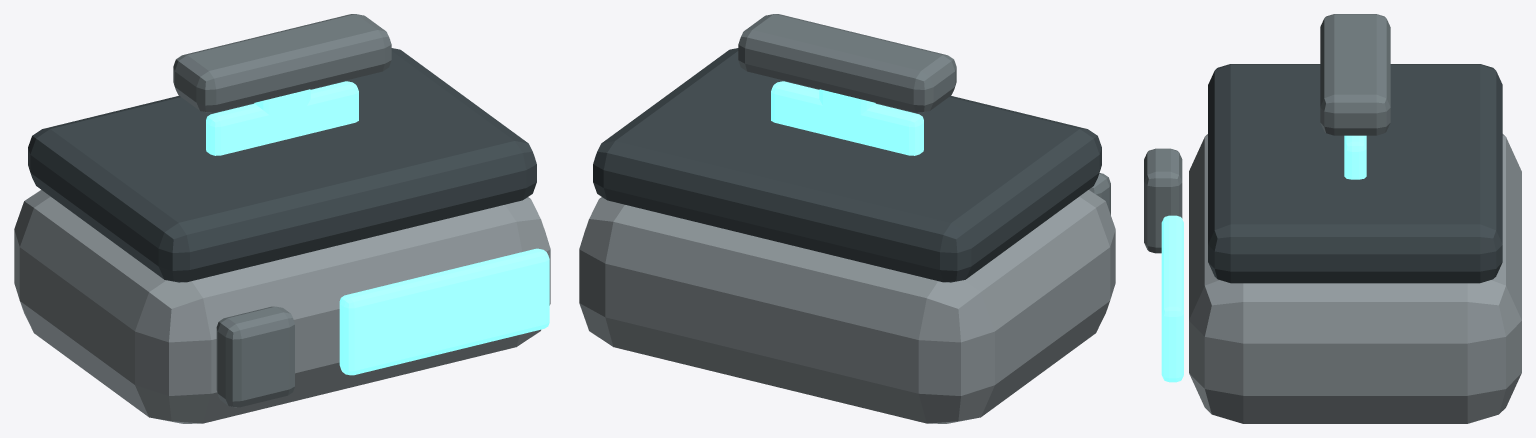
File: FieldMedkit_A.fbx
3 renders of one model, left to right at view 1: azimuth 30°, elevation 25°; view 2: azimuth 150°, elevation 25°; view 3: azimuth 270°, elevation 25°, orthographic. The views are drawn at different scales.
Parts seen in each view (by area): view 1: Medkit Lid, Medkit Shell, Medkit Screen, Medkit Handle, Medkit Latch, Medkit Cross Horizontal, Medkit Cross Vertical; view 2: Medkit Shell, Medkit Lid, Medkit Handle, Medkit Cross Horizontal, Medkit Cross Vertical; view 3: Medkit Lid, Medkit Shell, Medkit Handle, Medkit Screen, Medkit Latch, Medkit Cross Horizontal.
Part boxes in pixels (bbox=[...]): Medkit Lid: bbox=[28, 48, 536, 282]; Medkit Shell: bbox=[14, 190, 550, 423]; Medkit Screen: bbox=[339, 248, 549, 375]; Medkit Handle: bbox=[173, 14, 391, 112]; Medkit Latch: bbox=[216, 306, 294, 407]; Medkit Cross Horizontal: bbox=[206, 81, 358, 155]; Medkit Cross Vertical: bbox=[254, 89, 310, 143]; Medkit Shell: bbox=[579, 190, 1115, 423]; Medkit Lid: bbox=[593, 48, 1101, 282]; Medkit Handle: bbox=[738, 14, 956, 112]; Medkit Cross Horizontal: bbox=[771, 81, 923, 155]; Medkit Cross Vertical: bbox=[819, 89, 875, 143]; Medkit Lid: bbox=[1208, 64, 1502, 283]; Medkit Shell: bbox=[1189, 134, 1521, 423]; Medkit Handle: bbox=[1320, 14, 1390, 135]; Medkit Screen: bbox=[1161, 215, 1183, 382]; Medkit Latch: bbox=[1144, 148, 1182, 253]; Medkit Cross Horizontal: bbox=[1344, 135, 1366, 179].
Size of the model in its own units: 0.72 by 0.505 by 0.59.
